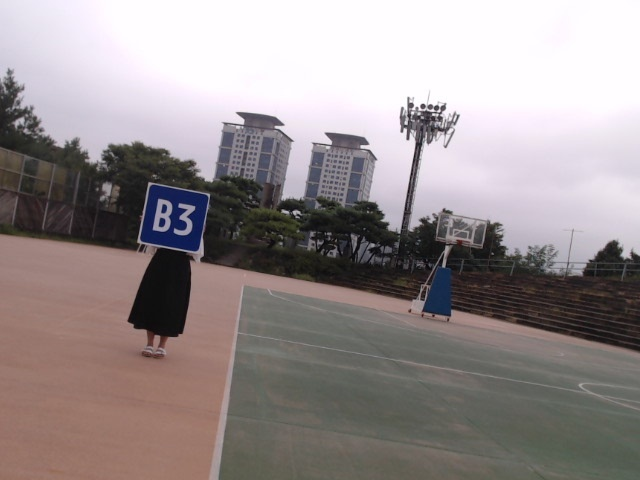delivery_b3: (139, 183, 209, 253)
